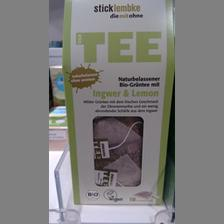Tee: (60, 0, 174, 204)
